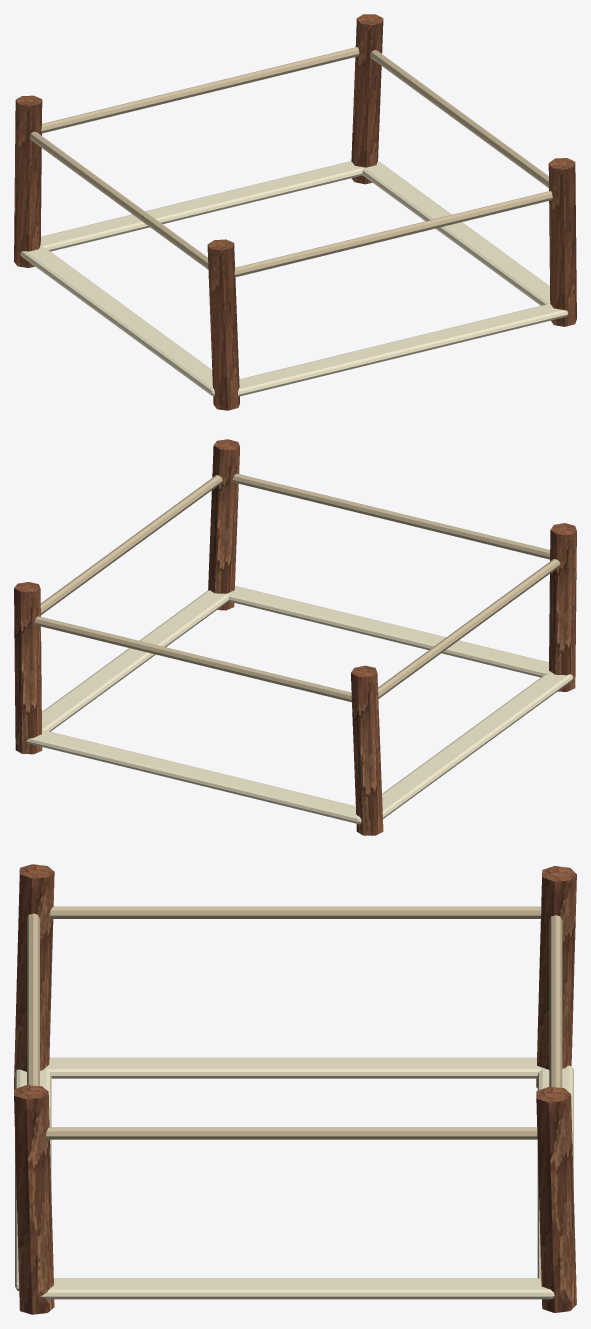
The model's file is construction-site.glb.
3 renders of one model, top to bottom at view 1: azimuth 30°, elevation 25°; view 2: azimuth 150°, elevation 25°; view 3: azimuth 270°, elevation 25°, orthographic. The views are drawn at different scales.
Visible parts, largest first — view 1: outlineX_P, outlineX_M, outlineY_M, stakeMP, outlineY_P, stakePP, stakeMM, stakePM, ropeX_P, ropeX_M, ropeY_M, ropeY_P; view 2: outlineX_M, outlineX_P, outlineY_M, stakeMM, outlineY_P, stakePM, stakeMP, stakePP, ropeX_M, ropeX_P, ropeY_M, ropeY_P; view 3: outlineY_P, outlineY_M, stakePP, stakePM, ropeY_P, ropeY_M, stakeMM, stakeMP, ropeX_M, ropeX_P, outlineX_M, outlineX_P.
Boxes of the visible parts, left/top/right/bottom form: outlineX_P: left=238, top=304, right=568, bottom=396; outlineX_M: left=40, top=161, right=364, bottom=251; outlineY_M: left=20, top=246, right=214, bottom=395; stakeMP: left=207, top=239, right=239, bottom=410; outlineY_P: left=362, top=161, right=550, bottom=305; stakePP: left=548, top=158, right=576, bottom=326; stakeMM: left=14, top=95, right=42, bottom=267; stakePM: left=351, top=14, right=383, bottom=184; ropeX_P: left=234, top=191, right=552, bottom=277; ropeX_M: left=41, top=47, right=359, bottom=133; ropeY_M: left=29, top=131, right=208, bottom=269; ropeY_P: left=370, top=50, right=548, bottom=187; outlineX_M: left=26, top=730, right=361, bottom=823; outlineX_P: left=227, top=586, right=550, bottom=677; outlineY_M: left=382, top=672, right=573, bottom=818; stakeMM: left=351, top=665, right=383, bottom=835; outlineY_P: left=42, top=590, right=228, bottom=731; stakePM: left=14, top=582, right=42, bottom=754; stakeMP: left=549, top=523, right=576, bottom=691; stakePP: left=208, top=439, right=239, bottom=610; ropeX_M: left=34, top=616, right=351, bottom=702; ropeX_P: left=232, top=474, right=549, bottom=559; ropeY_M: left=378, top=559, right=560, bottom=698; ropeY_P: left=40, top=475, right=222, bottom=614; outlineY_P: left=41, top=1278, right=554, bottom=1299; outlineY_M: left=44, top=1057, right=544, bottom=1078; stakePP: left=14, top=1085, right=54, bottom=1314; stakePM: left=536, top=1087, right=576, bottom=1312; ropeY_P: left=46, top=1127, right=537, bottom=1139; ropeY_M: left=49, top=906, right=541, bottom=918; stakeMM: left=536, top=866, right=576, bottom=1087; stakeMP: left=14, top=864, right=54, bottom=1089; ropeX_M: left=549, top=915, right=562, bottom=1087; ropeX_P: left=27, top=913, right=39, bottom=1085; outlineX_M: left=537, top=1065, right=573, bottom=1278; outlineX_P: left=15, top=1068, right=51, bottom=1290.
Bounding box in the file's own units: 1.08 × 0.4522 × 1.08.
Materials: 3 (1 with a texture image).
